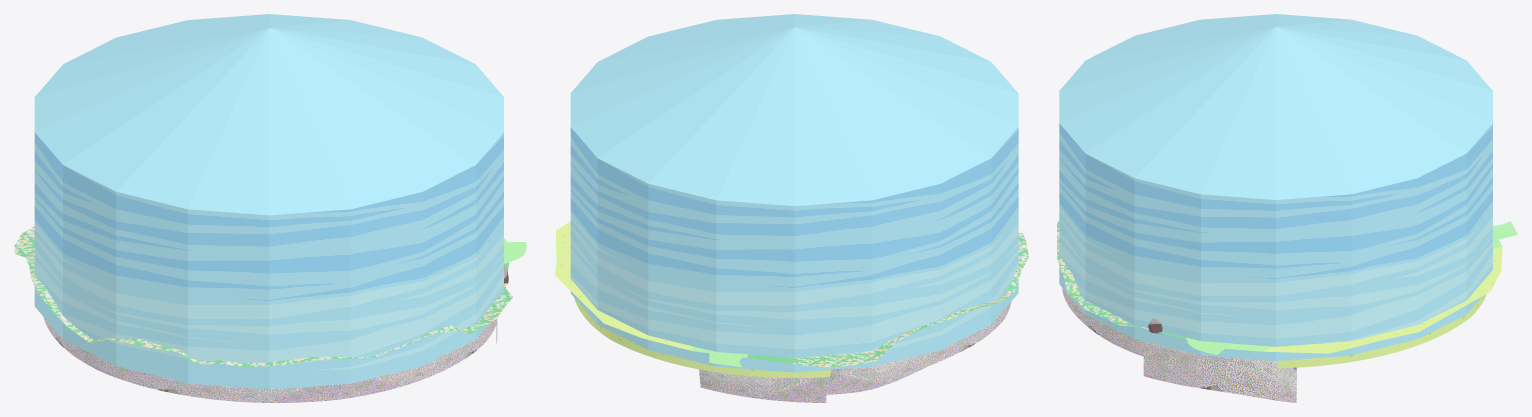
The model's file is MarshmallowyMeadows.glb.
3 views of the same model, side by side, from view 1: azimuth 30°, elevation 25°; view 2: azimuth 150°, elevation 25°; view 3: azimuth 270°, elevation 25° (orthographic). The views are drawn at different scales.
Parts seen in each view (by area): view 1: MarshmallowyMweadows_Sky, Marshmallowy Mweadows_Atlas_06, MarshmallowyMweadows_Grown_01; view 2: MarshmallowyMweadows_Sky, Marshmallowy Mweadows_Atlas_06, MarshmallowyMweadows_Grown_01, MarshmallowyMweadows_Grown_06, MarshmallowyMweadows_Grown_04; view 3: MarshmallowyMweadows_Sky, Marshmallowy Mweadows_Atlas_06, MarshmallowyMweadows_Grown_06, MarshmallowyMweadows_Grown_01, MarshmallowyMweadows_Grown_04.
Boxes of the visible parts, x1,y1,x2,y2 form: MarshmallowyMweadows_Sky: [34, 14, 503, 389]; Marshmallowy Mweadows_Atlas_06: [43, 317, 497, 402]; MarshmallowyMweadows_Grown_01: [14, 226, 512, 367]; MarshmallowyMweadows_Sky: [570, 14, 1018, 372]; Marshmallowy Mweadows_Atlas_06: [574, 297, 1011, 402]; MarshmallowyMweadows_Grown_01: [807, 233, 1028, 367]; MarshmallowyMweadows_Grown_06: [555, 221, 692, 351]; MarshmallowyMweadows_Grown_04: [709, 350, 749, 367]; MarshmallowyMweadows_Sky: [1059, 14, 1492, 360]; Marshmallowy Mweadows_Atlas_06: [1062, 287, 1486, 402]; MarshmallowyMweadows_Grown_06: [1263, 246, 1502, 353]; MarshmallowyMweadows_Grown_01: [1057, 220, 1139, 326]; MarshmallowyMweadows_Grown_04: [1186, 221, 1517, 354].
Size of the model in its own units: 84.83 by 57.98 by 83.76.
Materials: 8 (8 with a texture image).
